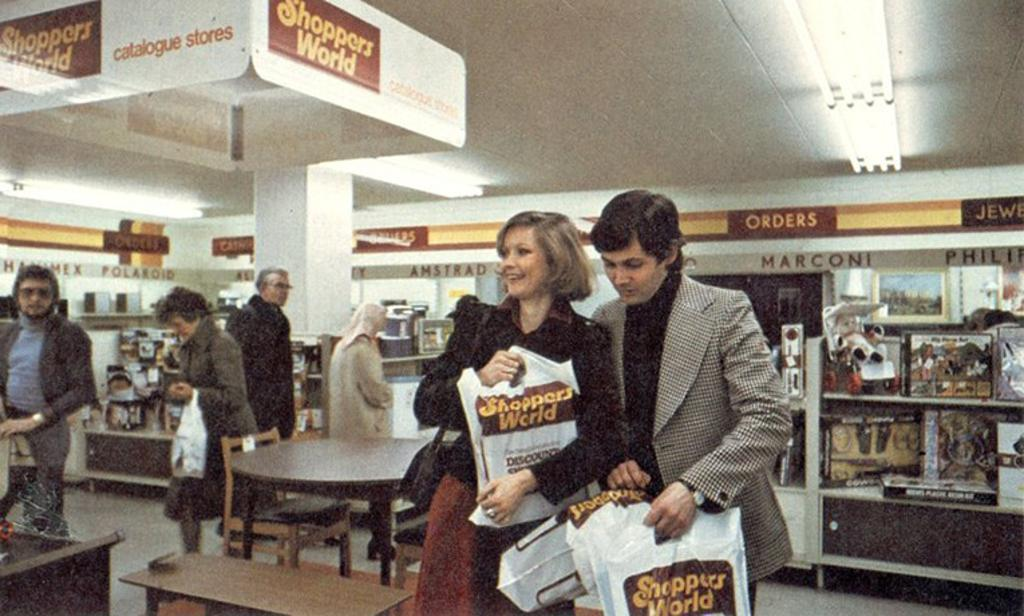face: (604, 223, 666, 306), (501, 228, 545, 300), (21, 277, 50, 317), (267, 274, 290, 306), (167, 309, 190, 340), (833, 429, 850, 447), (847, 375, 862, 392), (375, 313, 386, 330), (976, 424, 987, 438), (826, 373, 836, 388), (957, 430, 967, 442), (892, 375, 900, 389), (839, 354, 850, 364), (922, 368, 929, 380), (944, 342, 953, 351), (939, 361, 945, 371), (926, 348, 932, 357)
